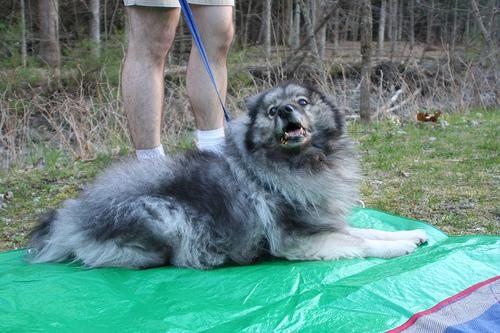dog-keeshond: (243, 79, 342, 151)
